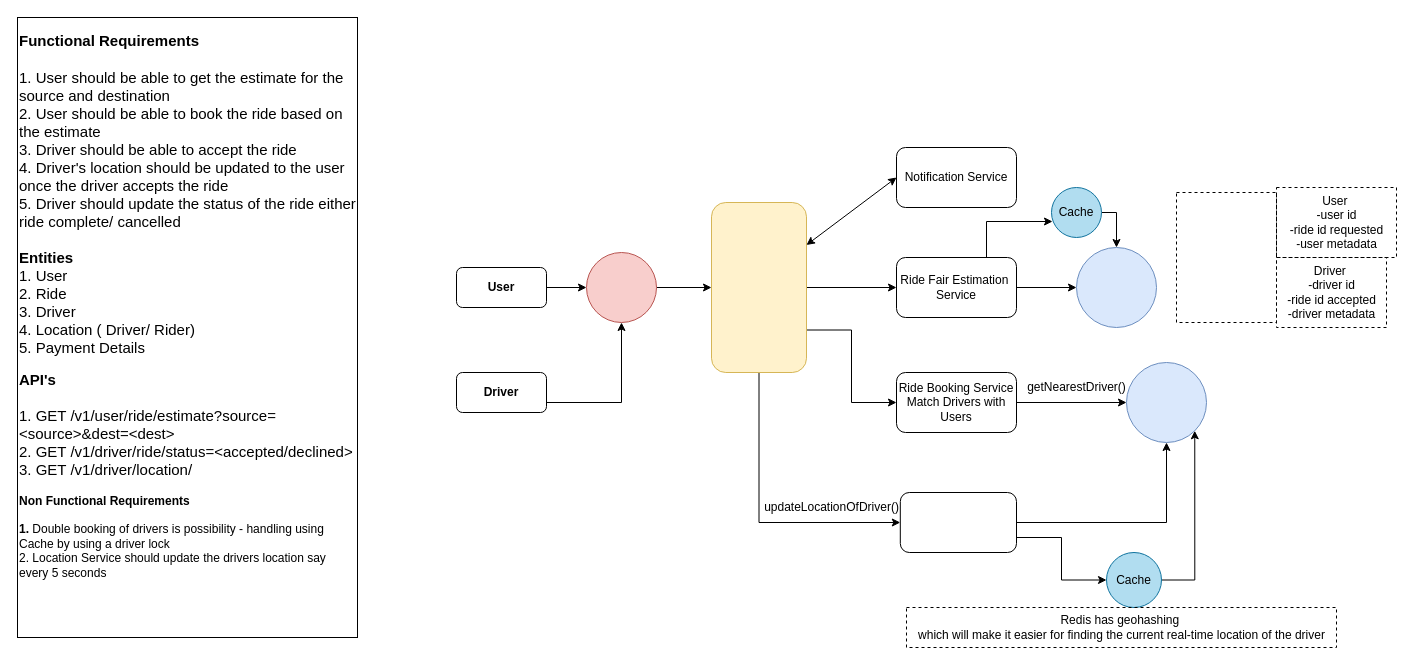
Some shapes in this 1414 by 665 pixel diagram are drawn without their labels. Here are the shapes that lost their labels. From the top down, the centre of each, then its label:
the point at 1226,257: Rides -ride id -user id -driver id -source id -destination id -price -status
the point at 621,287: Load Balancer
the point at 758,287: API Gateway Authentication + Rate Limiting
the point at 1116,287: Database Rides
the point at 1166,402: Location Database (Drivers Location)
the point at 957,522: Location Service
